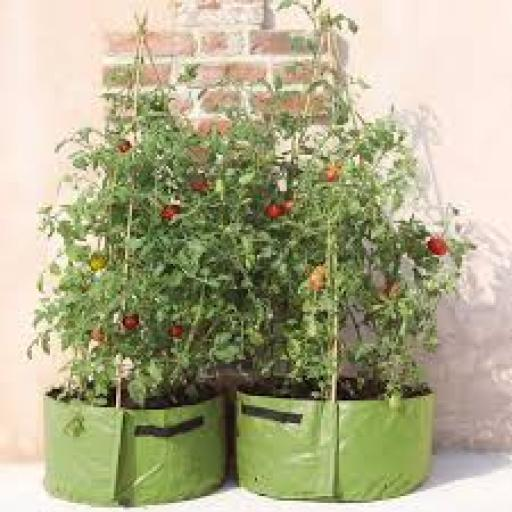tomato: (308, 264, 327, 291), (189, 146, 211, 166), (428, 237, 448, 257), (162, 205, 182, 220), (264, 203, 284, 218), (89, 253, 106, 270), (189, 180, 211, 193), (121, 315, 141, 329), (326, 164, 341, 182), (383, 283, 400, 298), (169, 324, 184, 339), (92, 328, 106, 343), (390, 394, 402, 409), (119, 139, 131, 152), (283, 201, 293, 213)
